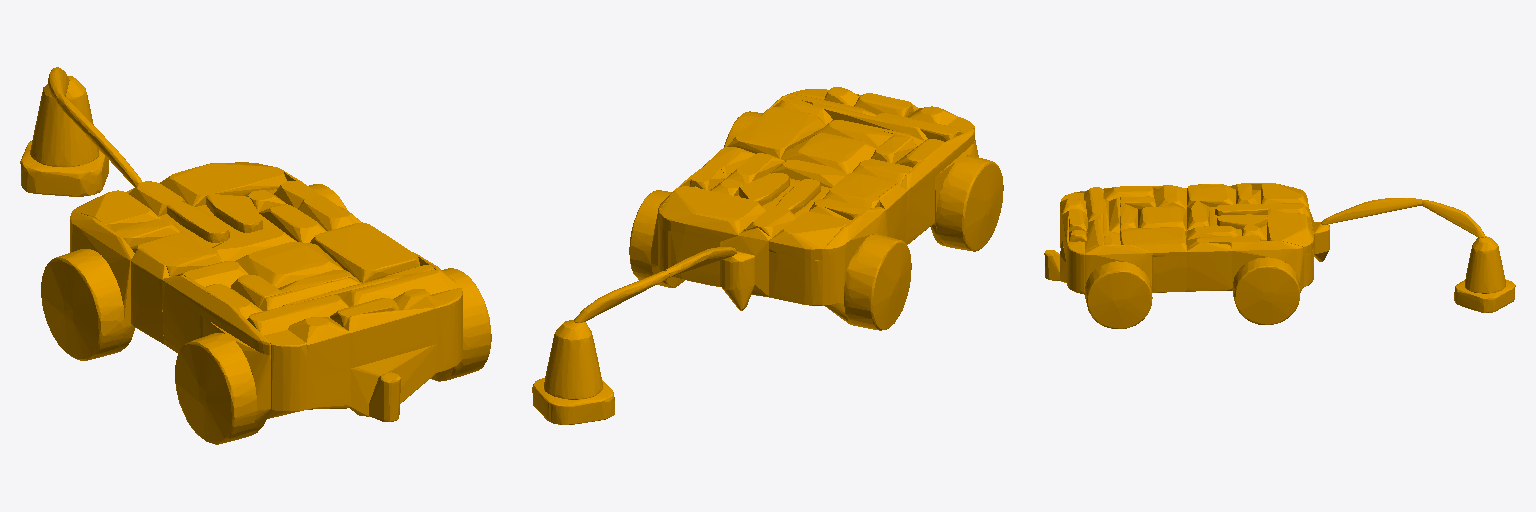
URDF robot description (073-g_lego_duplo):
<?xml version="1.0" encoding="UTF-8"?>
<robot name="073-g_lego_duplo">
	<link name="base">
		<collision>
			<geometry>
				<mesh filename="..\vhacd\073-g_lego_duplo_vhacd.obj" scale="1.0 1.0 1.0"/>
			</geometry>
			<origin xyz="0 0 0"/>
			<contact_coefficients mu="0.24" />
		</collision>
		<visual>
			<geometry>
				<mesh filename="..\vhacd\073-g_lego_duplo_vhacd.obj" scale="1.0 1.0 1.0"/>
			</geometry>
			<origin xyz="0 0 0"/>
		</visual>
		<inertial>
			<mass value="0"/>
			<inertia ixx="0.0" ixy="-0.0" ixz="0.0" iyy="0.0" iyz="0.0" izz="0.0" />
			<origin xyz="-0.014400799477377445 -0.08344438598866549 0.031183760678215856"/>
		</inertial>
	</link>
</robot>

--- Facts derived from the render (not from the file) ---
Views: 3 orthographic renders of the robot side by side, from view 1: azimuth 30°, elevation 25°; view 2: azimuth 150°, elevation 25°; view 3: azimuth 270°, elevation 25°.
Model 073-g_lego_duplo with 1 links and 0 joints (none), rooted at base, posed every joint at zero.
Visible links, largest first — view 1: base; view 2: base; view 3: base.
Link boxes in pixels (x1=…): base: x1=20, y1=67, x2=491, y2=444; base: x1=532, y1=87, x2=1003, y2=424; base: x1=1044, y1=183, x2=1515, y2=328.
Bounding box of the posed robot: 0.1341 × 0.3044 × 0.0604 m (x, y, z).
1 mesh visuals loaded from 1 distinct referenced files (1 OBJ).